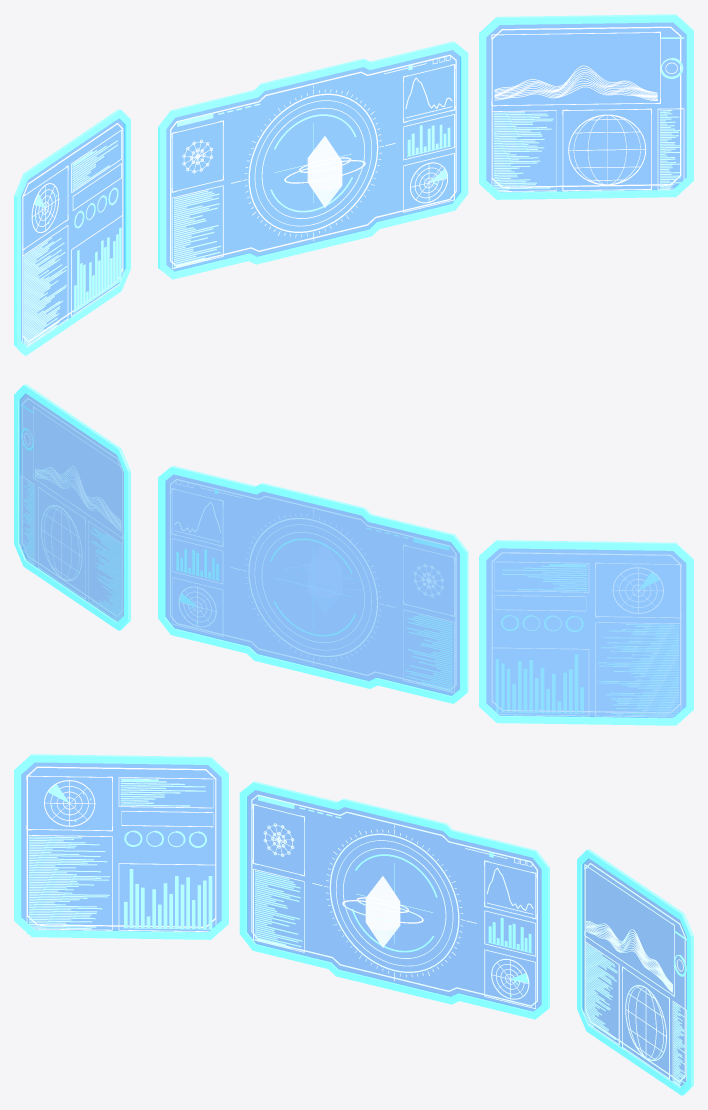
The model's file is Synthesis Machine Monitor.glb.
3 renders of one model, top to bottom at view 1: azimuth 30°, elevation 25°; view 2: azimuth 150°, elevation 25°; view 3: azimuth 330°, elevation 25°, orthographic.
Visible parts, largest first — view 1: Monitor_Center_Plate, Monitor_Right_Plate, Monitor_Left_Plate, Monitor_Center_Frame, Monitor_Right_Frame, Monitor_Right_UiLines, Monitor_Center_UiLines, Monitor_Left_Frame, Monitor_Right_UiText, Monitor_Left_UiText, Monitor_Left_UiFills, Monitor_Center_UiText (+6 smaller); view 2: Monitor_Center_Plate, Monitor_Left_Plate, Monitor_Right_Plate, Monitor_Center_Frame, Monitor_Left_Frame, Monitor_Left_UiText, Monitor_Right_Frame, Monitor_Center_UiLines, Monitor_Left_UiFills, Monitor_Right_UiLines, Monitor_Left_UiLines, Monitor_Right_UiText (+6 smaller); view 3: Monitor_Center_Plate, Monitor_Left_Plate, Monitor_Right_Plate, Monitor_Center_Frame, Monitor_Left_UiText, Monitor_Left_Frame, Monitor_Center_UiLines, Monitor_Right_Frame, Monitor_Right_UiLines, Monitor_Left_UiFills, Monitor_Left_UiLines, Monitor_Right_UiText (+6 smaller).
Part boxes in pixels (bbox=[...]): Monitor_Center_Plate: bbox=[166, 50, 460, 271]; Monitor_Right_Plate: bbox=[486, 22, 686, 192]; Monitor_Left_Plate: bbox=[21, 118, 125, 345]; Monitor_Center_Frame: bbox=[158, 41, 468, 279]; Monitor_Right_Frame: bbox=[479, 14, 693, 199]; Monitor_Right_UiLines: bbox=[491, 31, 684, 191]; Monitor_Center_UiLines: bbox=[171, 55, 455, 268]; Monitor_Left_Frame: bbox=[14, 109, 130, 355]; Monitor_Right_UiText: bbox=[493, 58, 681, 190]; Monitor_Left_UiText: bbox=[23, 140, 117, 346]; Monitor_Left_UiFills: bbox=[22, 151, 121, 354]; Monitor_Center_UiText: bbox=[173, 103, 351, 267]; Monitor_Center_Plate: bbox=[165, 474, 459, 695]; Monitor_Left_Plate: bbox=[486, 548, 686, 718]; Monitor_Right_Plate: bbox=[19, 393, 123, 621]; Monitor_Center_Frame: bbox=[158, 466, 468, 703]; Monitor_Left_Frame: bbox=[479, 540, 693, 725]; Monitor_Left_UiText: bbox=[502, 564, 678, 716]; Monitor_Right_Frame: bbox=[14, 384, 130, 630]; Monitor_Center_UiLines: bbox=[171, 479, 454, 692]; Monitor_Left_UiFills: bbox=[495, 564, 681, 722]; Monitor_Right_UiLines: bbox=[20, 406, 123, 621]; Monitor_Left_UiLines: bbox=[491, 561, 681, 717]; Monitor_Right_UiText: bbox=[22, 429, 121, 620]; Monitor_Center_Plate: bbox=[247, 790, 541, 1011]; Monitor_Left_Plate: bbox=[21, 762, 221, 932]; Monitor_Right_Plate: bbox=[582, 858, 686, 1085]; Monitor_Center_Frame: bbox=[239, 781, 549, 1019]; Monitor_Left_UiText: bbox=[29, 778, 205, 929]; Monitor_Left_Frame: bbox=[14, 754, 228, 939]; Monitor_Center_UiLines: bbox=[252, 804, 536, 1008]; Monitor_Right_Frame: bbox=[577, 849, 693, 1095]; Monitor_Right_UiLines: bbox=[584, 864, 686, 1086]; Monitor_Left_UiFills: bbox=[26, 779, 212, 934]; Monitor_Left_UiLines: bbox=[26, 775, 216, 931]; Monitor_Right_UiText: bbox=[585, 943, 685, 1084].
Bounding box in the file's own units: 5.29 × 1.36 × 0.7019.
